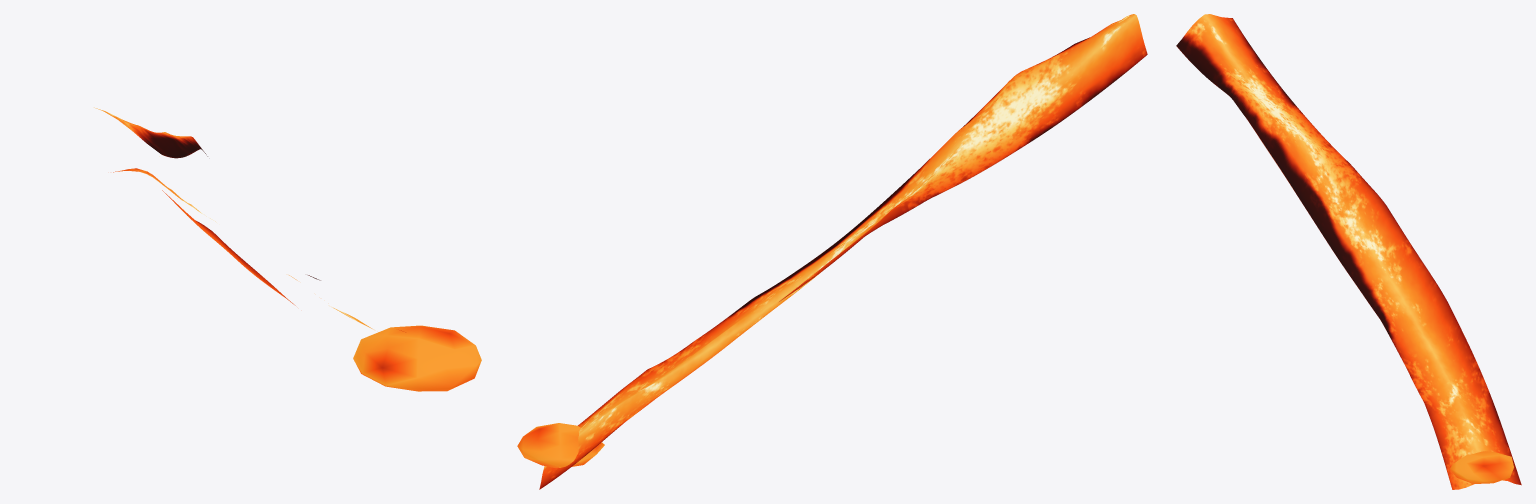
The model's file is flow_1_4.glb.
3 views of the same model, side by side, from view 1: azimuth 30°, elevation 25°; view 2: azimuth 150°, elevation 25°; view 3: azimuth 270°, elevation 25° (orthographic). The views are drawn at different scales.
Size of the model in its own units: 8.63 by 7.49 by 7.25.
